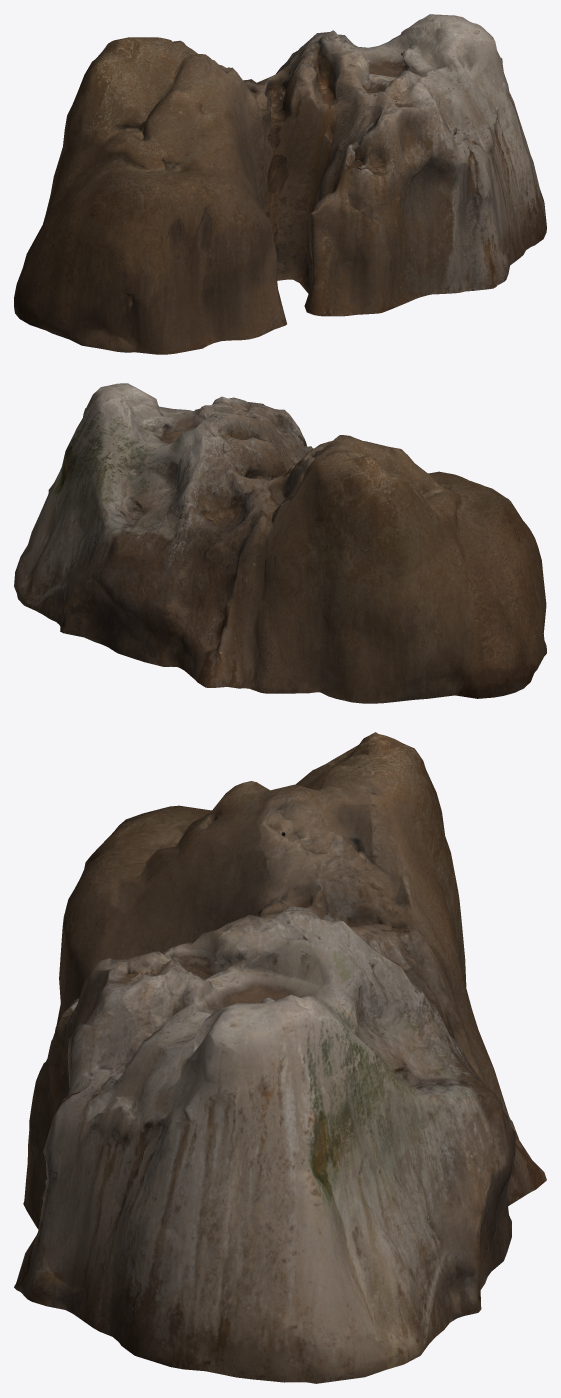
Rendered from SM_yggkdem_tier_2.gltf.
The picture shows the model from 3 angles, top to bottom: view 1: azimuth 30°, elevation 25°; view 2: azimuth 150°, elevation 25°; view 3: azimuth 270°, elevation 25°; orthographic projection. The views are drawn at different scales.
Parts seen in each view (by area): view 1: yggkdem_LOD2_TIER2_000; view 2: yggkdem_LOD2_TIER2_000; view 3: yggkdem_LOD2_TIER2_000.
Part boxes in pixels (left/top/right/bottom): yggkdem_LOD2_TIER2_000: left=14, top=14, right=546, bottom=354; yggkdem_LOD2_TIER2_000: left=14, top=383, right=546, bottom=703; yggkdem_LOD2_TIER2_000: left=14, top=732, right=546, bottom=1383.
Bounding box in the file's own units: 3.08 × 1.3 × 1.76.
1 material, 1 textured.
